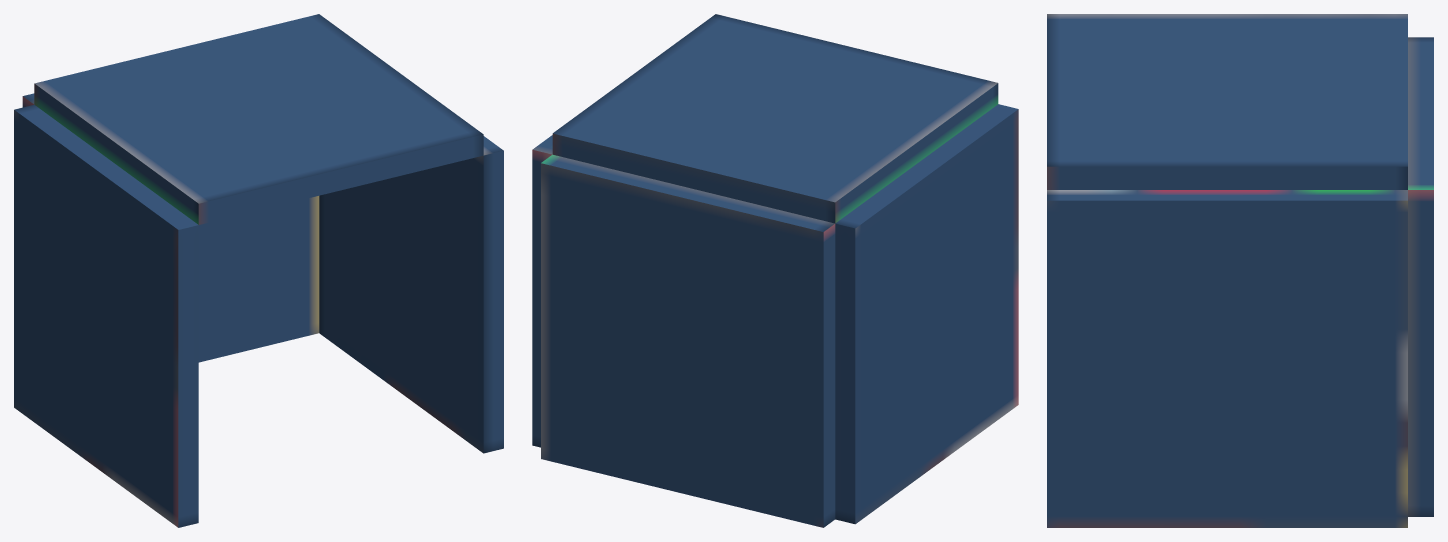
File: cockpit_glass_model.obj
3 renders of one model, left to right at view 1: azimuth 30°, elevation 25°; view 2: azimuth 150°, elevation 25°; view 3: azimuth 270°, elevation 25°, orthographic. The views are drawn at different scales.
Parts seen in each view (by area): view 1: glass_left, glass_up, glass_right, glass_front; view 2: glass_front, glass_left, glass_up, glass_right; view 3: glass_right, glass_up, glass_front.
Part boxes in pixels (x1=…): glass_left: x1=14, y1=104, x2=198, y2=527; glass_up: x1=34, y1=14, x2=483, y2=224; glass_right: x1=319, y1=136, x2=503, y2=453; glass_front: x1=22, y1=93, x2=319, y2=362; glass_front: x1=541, y1=154, x2=835, y2=527; glass_left: x1=835, y1=104, x2=1018, y2=524; glass_up: x1=552, y1=14, x2=998, y2=223; glass_right: x1=532, y1=135, x2=552, y2=447; glass_right: x1=1047, y1=190, x2=1407, y2=527; glass_up: x1=1047, y1=14, x2=1407, y2=189; glass_front: x1=1408, y1=37, x2=1433, y2=516.
Bounding box in the file's own units: 1 × 0.9375 × 0.9375.
